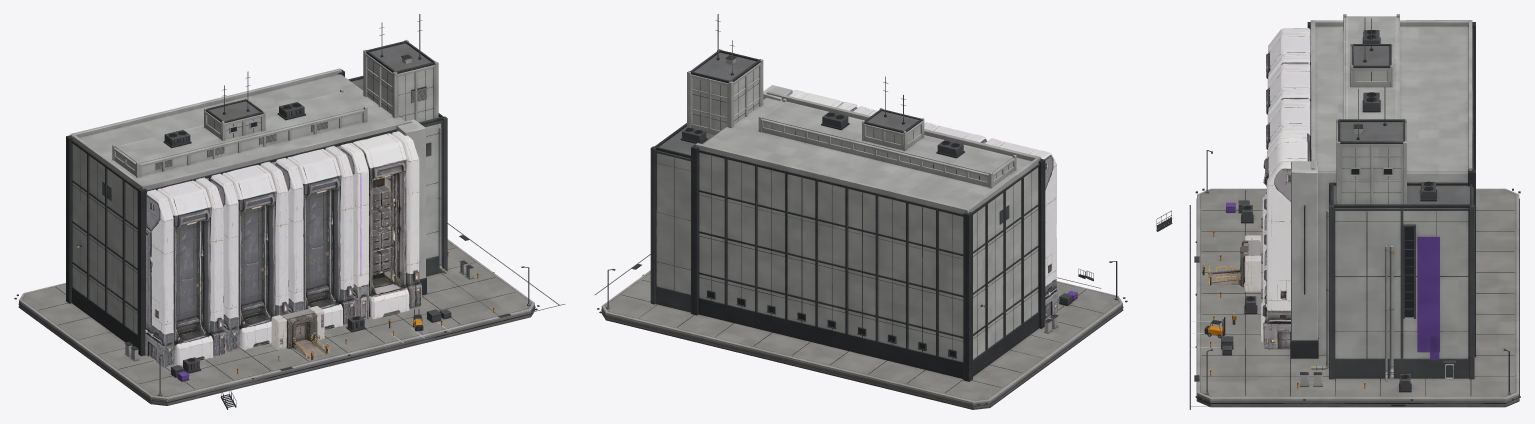
File: silicon_depot.glb
3 views of the same model, side by side, from view 1: azimuth 30°, elevation 25°; view 2: azimuth 150°, elevation 25°; view 3: azimuth 270°, elevation 25° (orthographic). The views are drawn at different scales.
Visible parts, largest first — view 1: hull, parts_colony-vaultBay, parts_colony-rackBay, parts_colony-entrancePorch; view 2: hull, parts_colony-vaultBay, parts_colony-rackBay; view 3: hull, parts_colony-rackBay, parts_colony-vaultBay, parts_colony-entrancePorch.
Part boxes in pixels (box(x1,y1,x2,y2)): hull: box(14, 14, 565, 409); parts_colony-vaultBay: box(145, 146, 355, 367); parts_colony-rackBay: box(340, 131, 421, 319); parts_colony-entrancePorch: box(271, 306, 329, 359); hull: box(595, 14, 1127, 409); parts_colony-vaultBay: box(853, 106, 1057, 320); parts_colony-rackBay: box(789, 90, 858, 111); hull: box(1156, 14, 1520, 409); parts_colony-rackBay: box(1261, 133, 1307, 349); parts_colony-vaultBay: box(1261, 28, 1310, 301); parts_colony-entrancePorch: box(1208, 235, 1261, 291).
Bounding box in the file's own units: 78.29 × 48.1 × 54.28.
8 materials, 8 textured.
